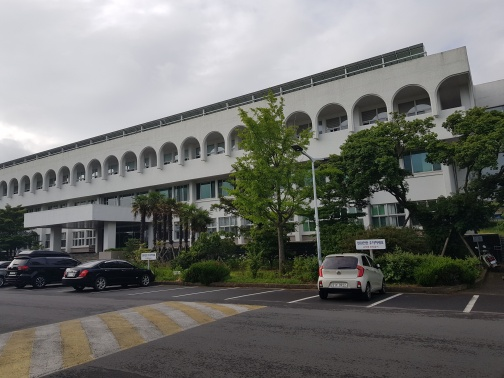Main Building of University: (4, 58, 461, 248), (14, 141, 180, 193), (17, 194, 150, 250), (314, 77, 436, 134)
